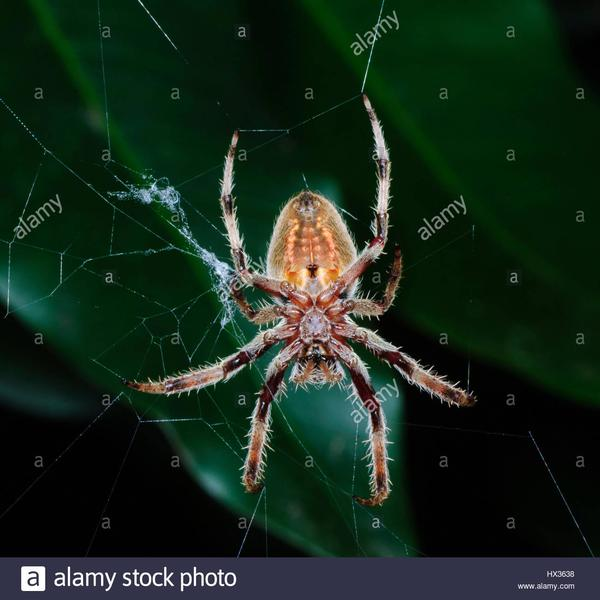Garden Orb Weaver Spider: (144, 102, 470, 500)
